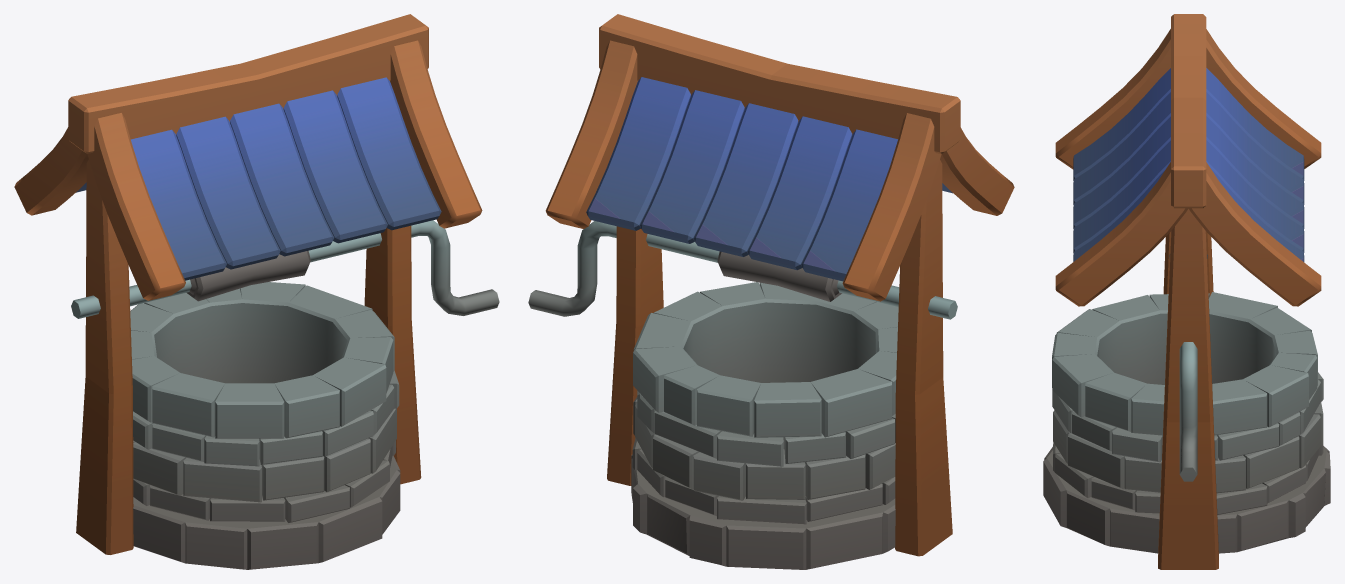
The model's file is Well.fbx.
3 renders of one model, left to right at view 1: azimuth 30°, elevation 25°; view 2: azimuth 150°, elevation 25°; view 3: azimuth 270°, elevation 25°, orthographic. The views are drawn at different scales.
Visible parts, largest first — view 1: Wall, Cylinder; view 2: Wall, Cylinder; view 3: Wall, Cylinder.
Boxes of the visible parts, x1,y1,x2,y2 form: Wall: (14, 14, 482, 569); Cylinder: (71, 220, 499, 318); Wall: (545, 14, 1014, 569); Cylinder: (528, 221, 957, 319); Wall: (1043, 14, 1330, 569); Cylinder: (1169, 254, 1207, 481).
Bounding box in the file's own units: 150 × 152 × 96.62.
